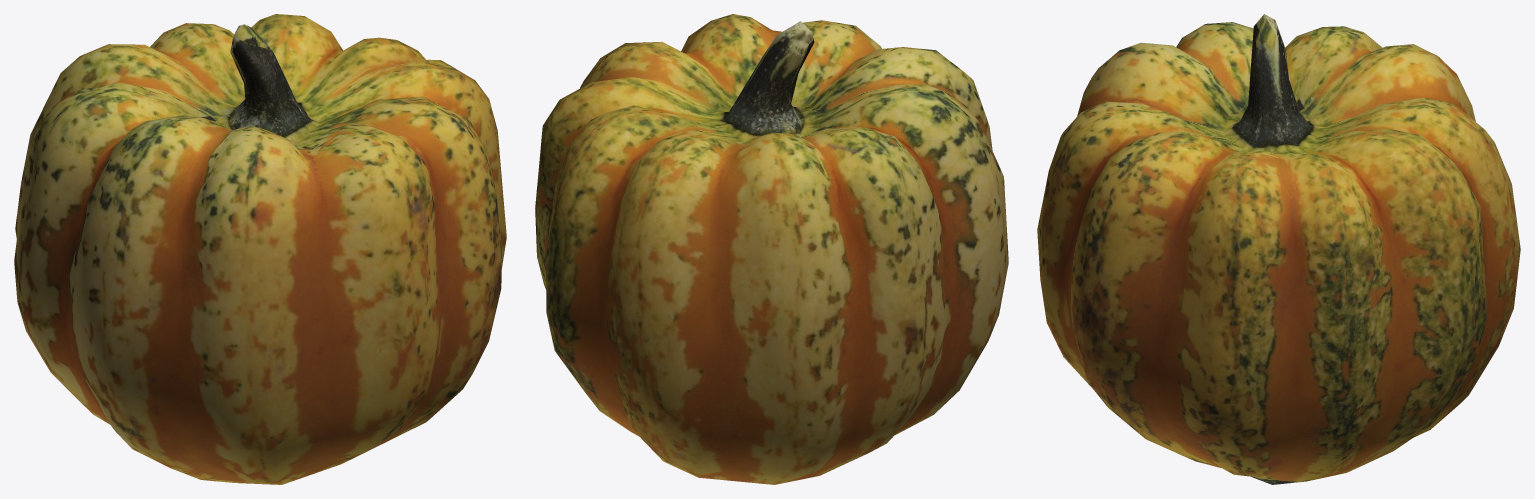
Rendered from 30_gourd_sweet_dumpling.glb.
3 views of the same model, side by side, from view 1: azimuth 30°, elevation 25°; view 2: azimuth 150°, elevation 25°; view 3: azimuth 270°, elevation 25° (orthographic). The views are drawn at different scales.
Parts seen in each view (by area): view 1: 30_sweet_dumpling; view 2: 30_sweet_dumpling; view 3: 30_sweet_dumpling.
Boxes of the visible parts, box(x1,y1,x2,y2) form: 30_sweet_dumpling: box(14, 14, 506, 484); 30_sweet_dumpling: box(535, 14, 1008, 484); 30_sweet_dumpling: box(1037, 14, 1520, 484).
Size of the model in its own units: 0.9338 by 0.9838 by 0.9632.
Materials: 1 (1 with a texture image).
